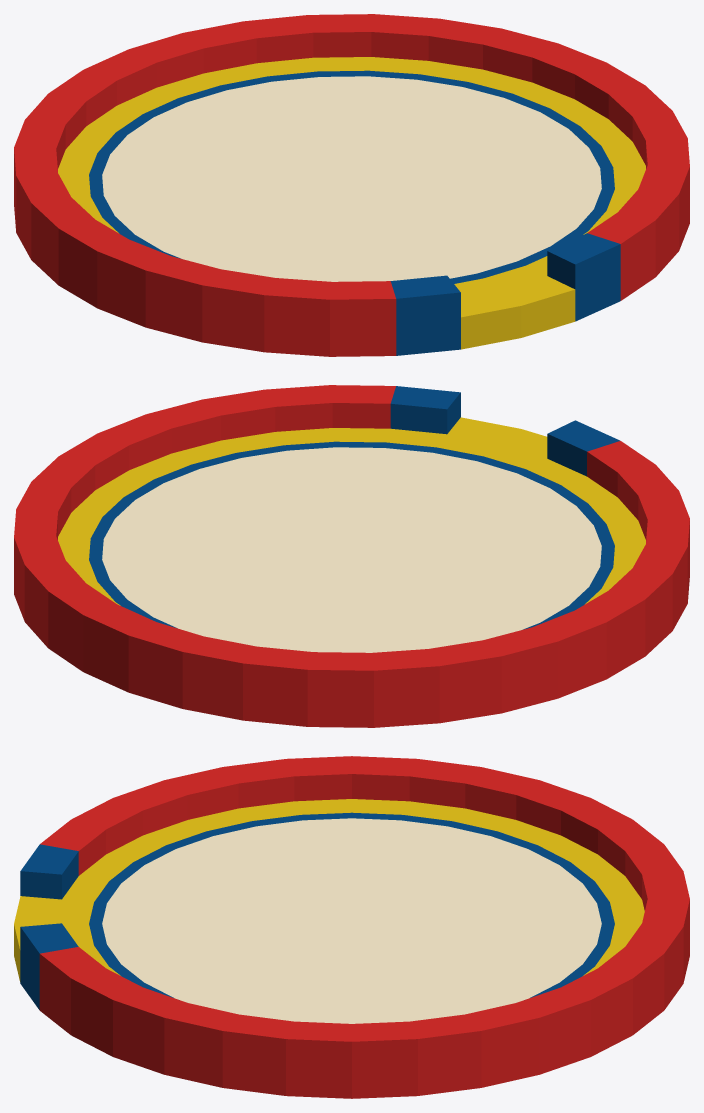
Rendered from map.fbx.
The picture shows the model from 3 angles, top to bottom: view 1: azimuth 30°, elevation 25°; view 2: azimuth 150°, elevation 25°; view 3: azimuth 270°, elevation 25°; orthographic projection.
Parts seen in each view (by area): view 1: playground; view 2: playground; view 3: playground.
Boxes of the visible parts, bbox=[...] form: playground: bbox=[14, 14, 689, 356]; playground: bbox=[14, 385, 689, 727]; playground: bbox=[14, 756, 689, 1098].
Bounding box in the file's own units: 590 × 54.96 × 590.
